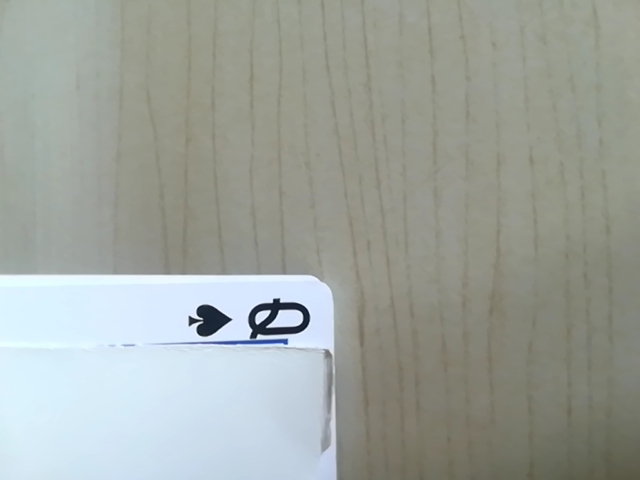ht q: (168, 283, 336, 365)
